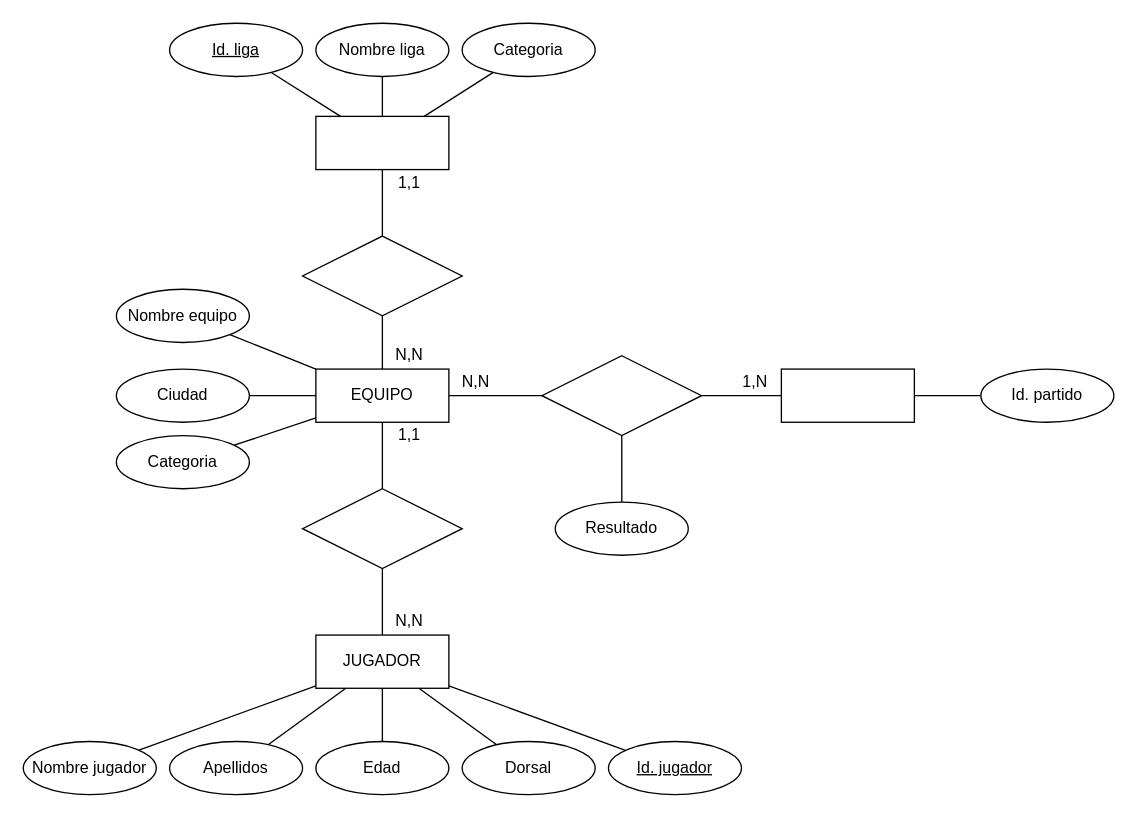
The diagram is 1137 pixels wide and 818 high, and some of its shapes have lost their labels. Here are the shapes that lost their labels. From the top down, the centre of each, then its label:
(x=382, y=142): LIGA
(x=381, y=275): PERTENECE
(x=621, y=395): JUEGA
(x=847, y=395): PARTIDO
(x=381, y=528): TIENE
